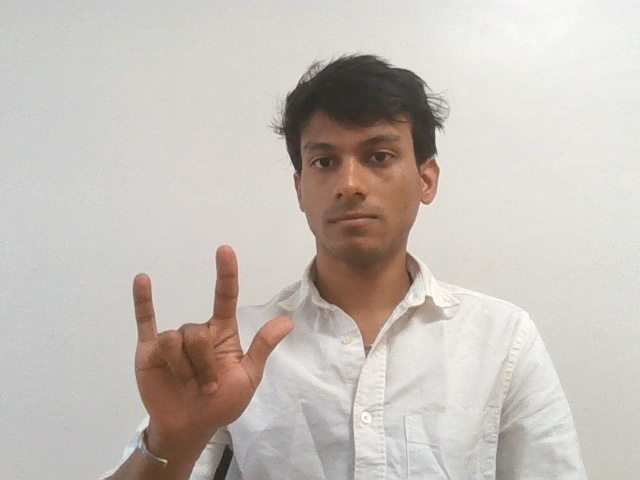ILoveYou: (120, 244, 294, 448)
